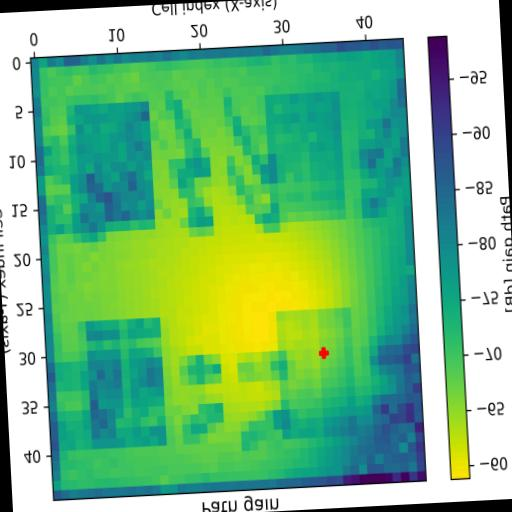Concrete: (276, 308, 358, 439)
Glass: (86, 316, 168, 450)
Metal: (266, 90, 348, 222)
Wood: (66, 100, 156, 235)
